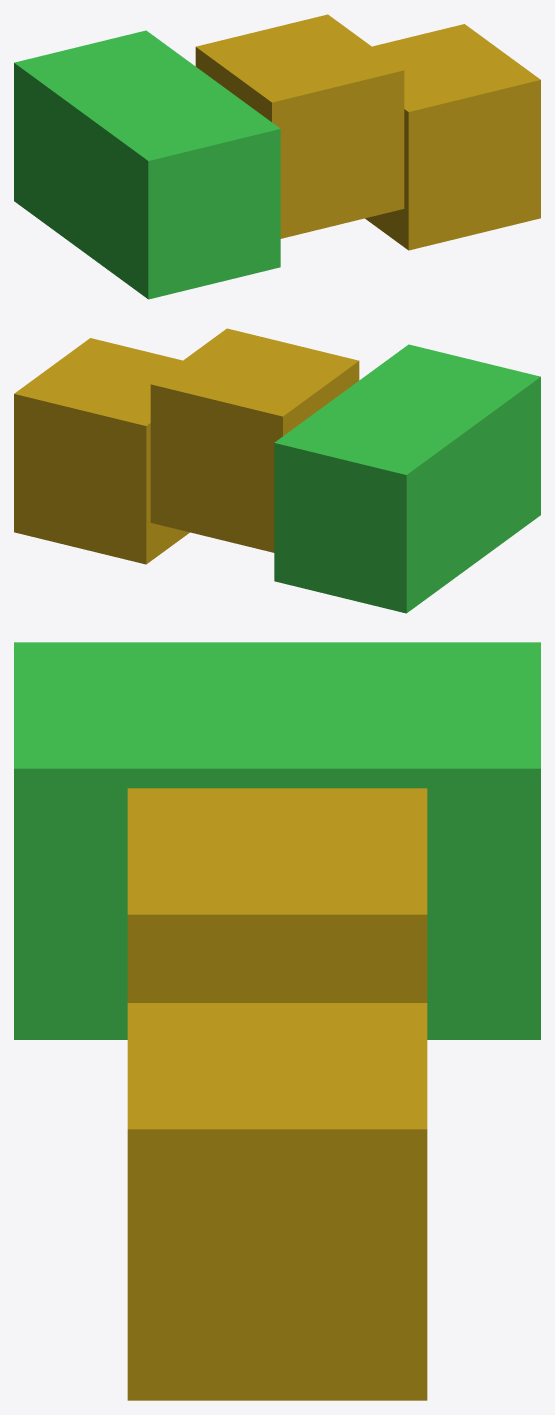
The model's file is cubo-01.obj.
3 views of the same model, one above another, from view 1: azimuth 30°, elevation 25°; view 2: azimuth 150°, elevation 25°; view 3: azimuth 270°, elevation 25° (orthographic). The views are drawn at different scales.
Parts seen in each view (by area): view 1: Cube, Cube.001, Cube.002; view 2: Cube, Cube.001, Cube.002; view 3: Cube, Cube.002, Cube.001.
Boxes of the visible parts, x1,y1,x2,y2 form: Cube: [14, 30, 280, 299]; Cube.001: [195, 14, 404, 238]; Cube.002: [365, 24, 540, 250]; Cube: [274, 344, 540, 613]; Cube.001: [150, 328, 359, 552]; Cube.002: [14, 338, 189, 564]; Cube: [14, 642, 540, 1039]; Cube.002: [127, 1003, 427, 1400]; Cube.001: [127, 788, 427, 1002].
Bounding box in the file's own units: 6.37 × 2.62 × 3.52.
